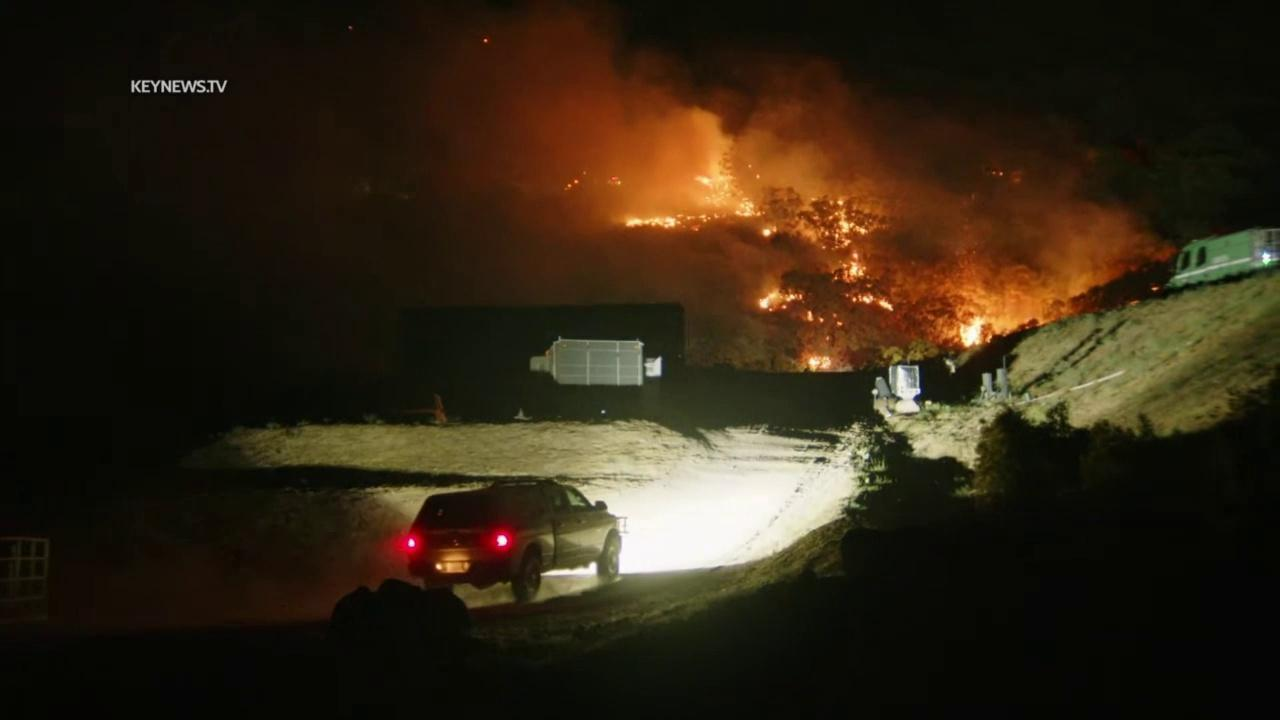fire: (687, 173, 762, 225), (819, 199, 873, 249), (832, 251, 873, 290), (757, 287, 805, 312), (843, 291, 896, 313), (624, 214, 682, 231), (957, 315, 982, 349), (807, 353, 832, 371), (762, 225, 778, 238), (653, 186, 670, 197), (806, 309, 815, 322), (835, 320, 844, 328), (480, 37, 490, 44), (610, 175, 621, 181), (818, 316, 825, 324), (573, 178, 580, 185), (565, 183, 572, 189), (825, 335, 831, 341), (998, 172, 1005, 177)
smoke: (393, 0, 1182, 334)
